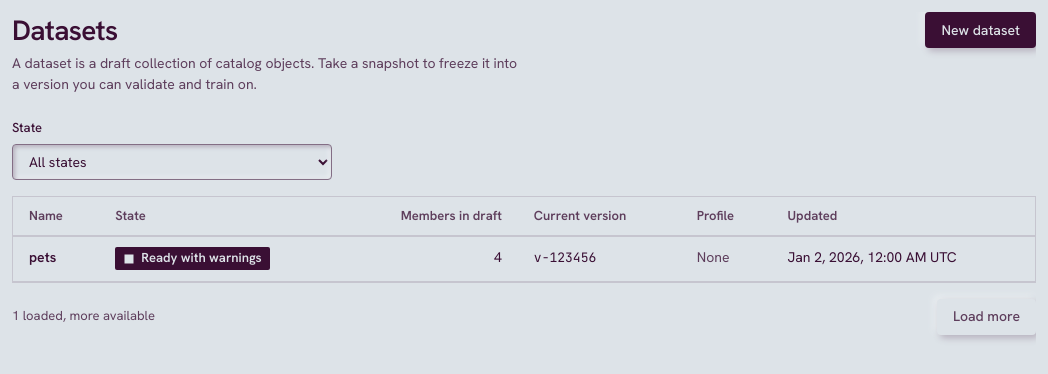
Scenario: DatasetsList › lists datasets by lifecycle status and pages with the cursor
This screenshot has width=1048, height=374.
Expected: the link "pets" is shown, [29,248,56,266]
Expected: the text "Ready with warnings" is shown, [115,248,270,270]
Click the button "Load more". click: point(986, 317)
box: [937,299,1036,335]
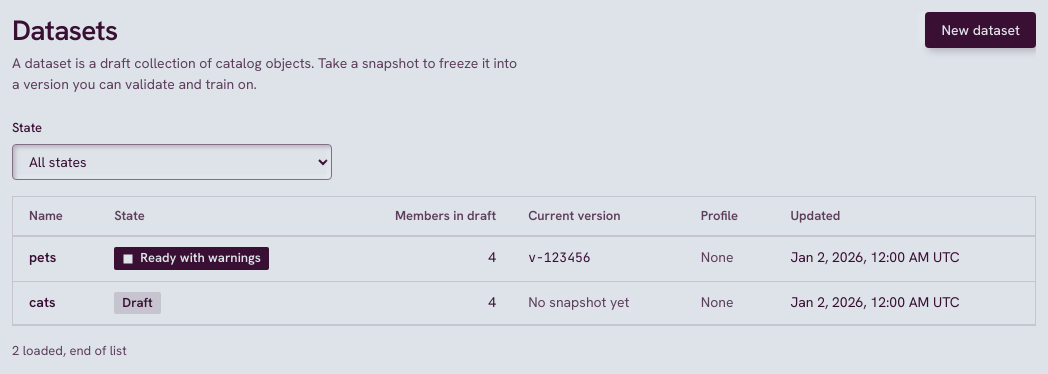
Expected: the link "cats" is shown, [29,293,56,311]
Expected: the text "No snapshot yet" is shown, [528,293,629,311]
